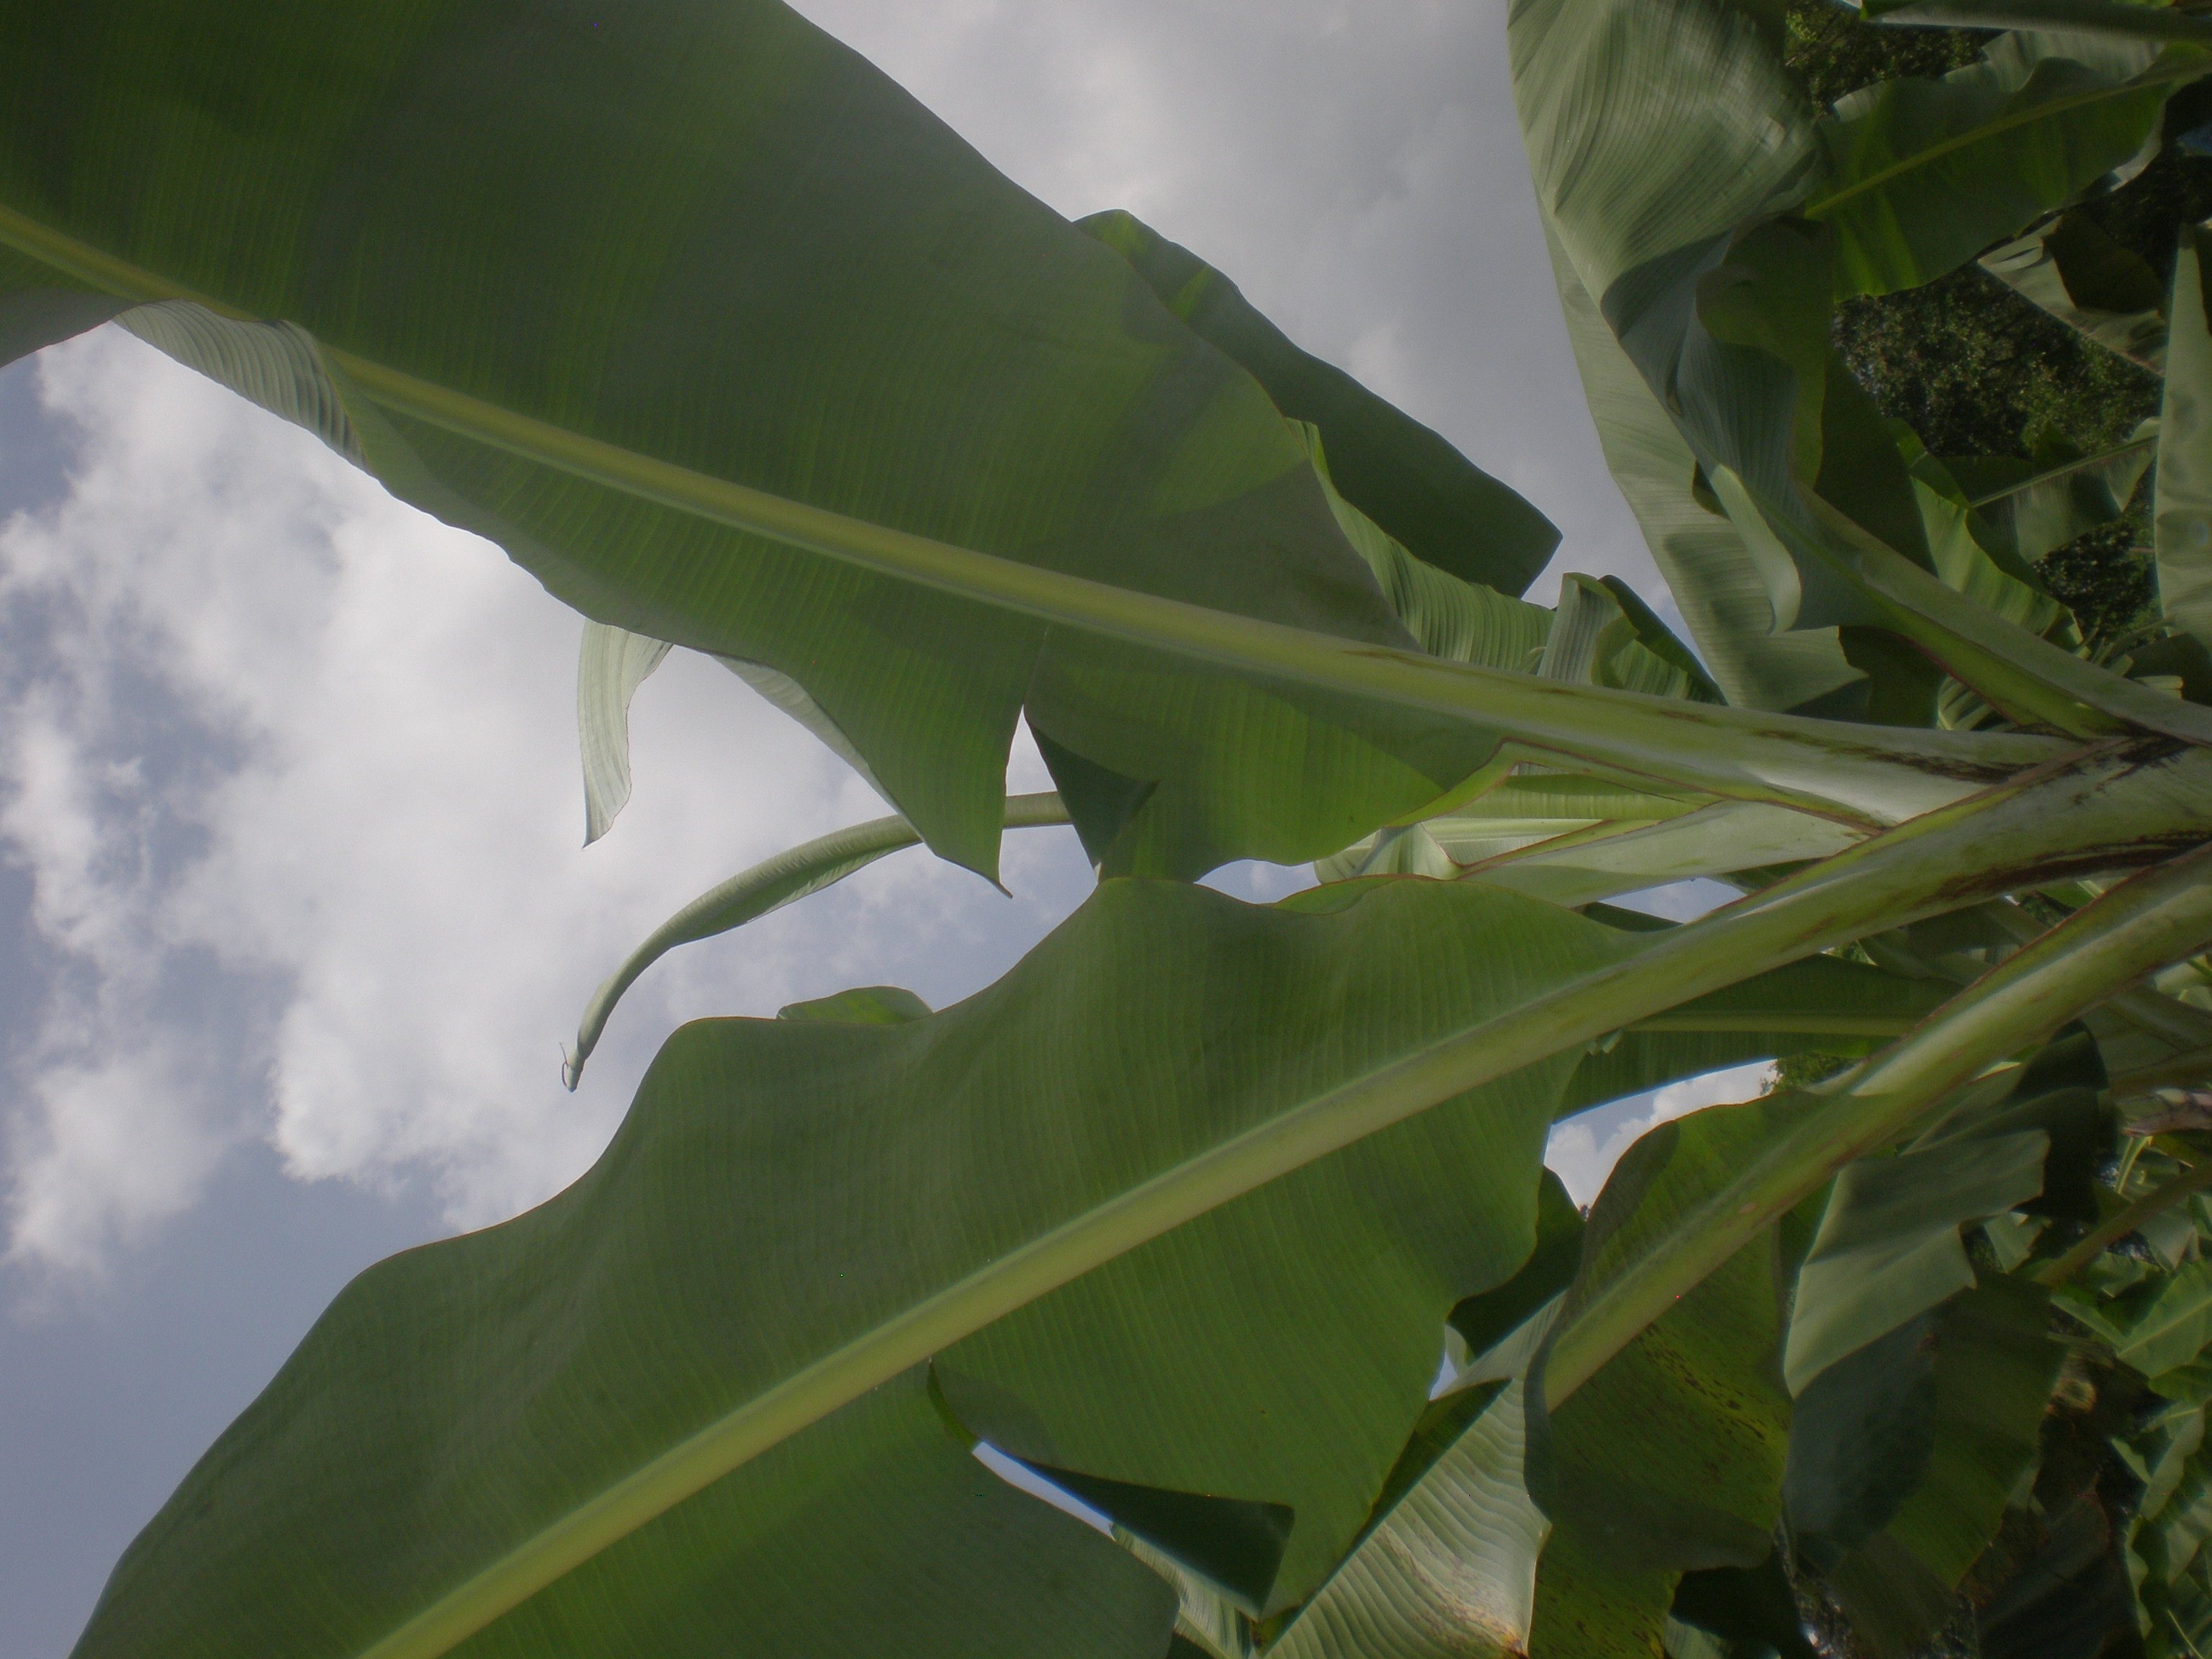candleleafs: (561, 772, 1057, 1093)
